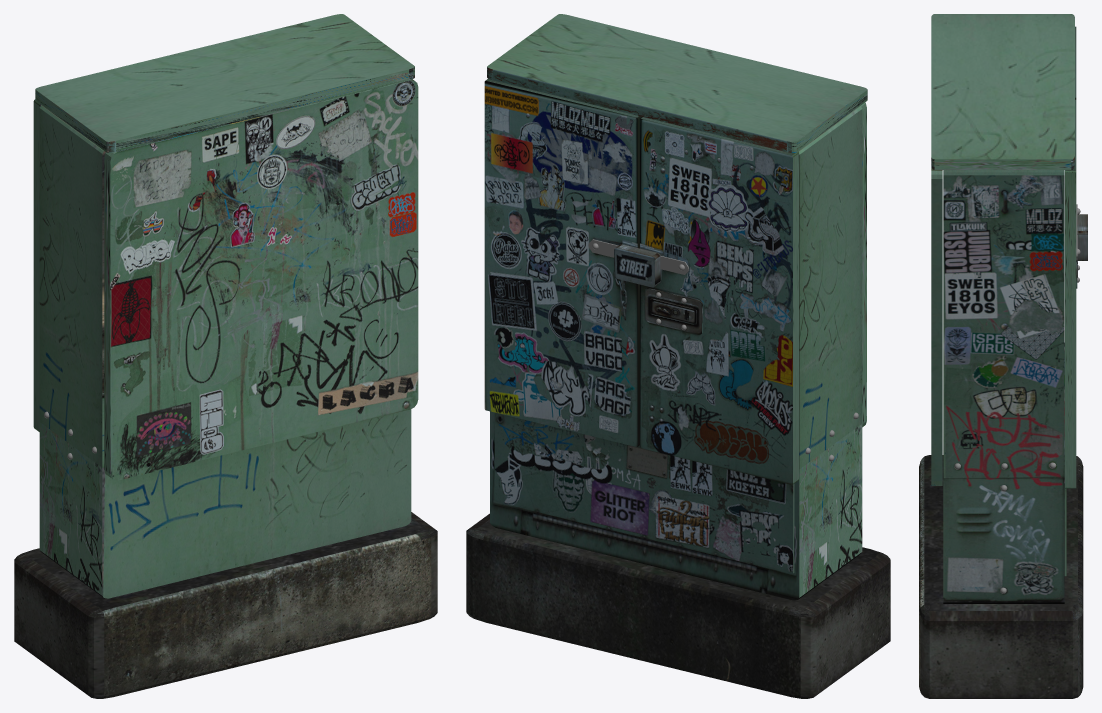
Rendered from street_art_box_fiber_optic_mexico.glb.
3 views of the same model, side by side, from view 1: azimuth 30°, elevation 25°; view 2: azimuth 150°, elevation 25°; view 3: azimuth 270°, elevation 25° (orthographic). The views are drawn at different scales.
Parts seen in each view (by area): view 1: BACK COVER, BASE, CONCRETE, CAP UP, LEFT FRONT DOOR; view 2: RIGH TFRONT DOOR, LEFT FRONT DOOR, CONCRETE, BASE, LOWER METALLIC TABLE, CAP UP, PADLOCK, BACK COVER, METAL LOCK, LOCK, METAL FASTENER; view 3: BASE, CAP UP, CONCRETE, RIGH TFRONT DOOR, BACK COVER, PADLOCK, LOWER METALLIC TABLE.
Part boxes in pixels (x1,y1,x2,y2): BACK COVER: [104, 79, 418, 480]; BASE: [39, 105, 411, 598]; CONCRETE: [14, 512, 437, 698]; CAP UP: [35, 14, 414, 152]; LEFT FRONT DOOR: [33, 99, 40, 431]; RIGH TFRONT DOOR: [484, 78, 642, 446]; LEFT FRONT DOOR: [640, 117, 798, 484]; CONCRETE: [466, 513, 890, 698]; BASE: [490, 106, 862, 600]; LOWER METALLIC TABLE: [495, 412, 794, 573]; CAP UP: [487, 14, 867, 152]; PADLOCK: [614, 244, 660, 287]; BACK COVER: [860, 102, 866, 427]; METAL LOCK: [645, 288, 702, 334]; LOCK: [649, 299, 696, 324]; METAL FASTENER: [588, 239, 688, 274]; BASE: [943, 170, 1064, 603]; CAP UP: [931, 14, 1074, 169]; CONCRETE: [919, 455, 1083, 698]; RIGH TFRONT DOOR: [1065, 99, 1076, 488]; BACK COVER: [931, 168, 942, 485]; PADLOCK: [1077, 214, 1087, 260]; LOWER METALLIC TABLE: [1064, 343, 1066, 576].
Size of what is drawn, in the model's own units: 3.06 by 4.63 by 1.33.
3 materials, 2 textured.
